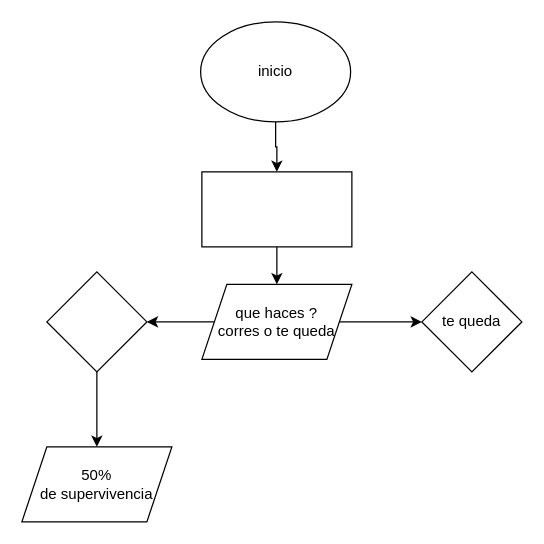
This 544x544 diagram has some shape labels left out. Each missing label, with the centre of its shape:
"corres" belongs at pixel 96 321.
"entras a la masmorra y encuentras al dragon" belongs at pixel 276 209.
